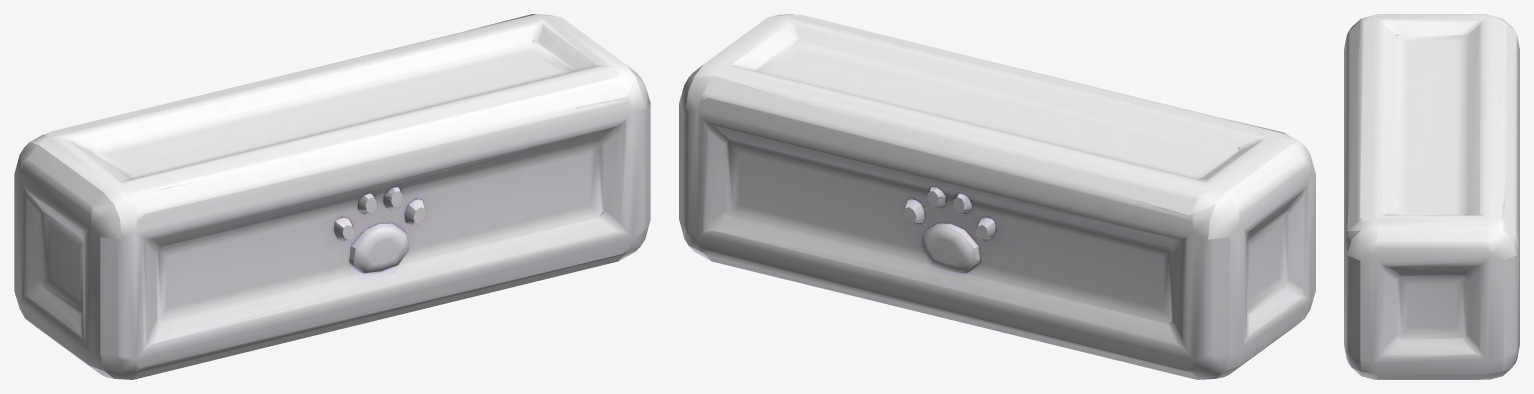
File: cubuk3.glb
3 views of the same model, side by side, from view 1: azimuth 30°, elevation 25°; view 2: azimuth 150°, elevation 25°; view 3: azimuth 270°, elevation 25° (orthographic). The views are drawn at different scales.
Visible parts, largest first — view 1: cubuk3; view 2: cubuk3; view 3: cubuk3.
Boxes of the visible parts, left/top/right/bottom form: cubuk3: left=14, top=14, right=650, bottom=379; cubuk3: left=679, top=14, right=1315, bottom=379; cubuk3: left=1344, top=14, right=1519, bottom=379.
Size of the model in its own units: 4.6 by 1.51 by 1.51.
Materials: 1 (1 with a texture image).
